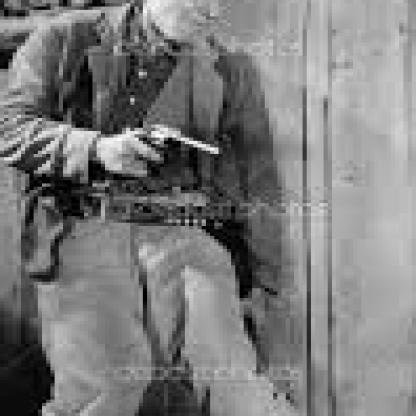gun: (127, 126, 218, 150)
